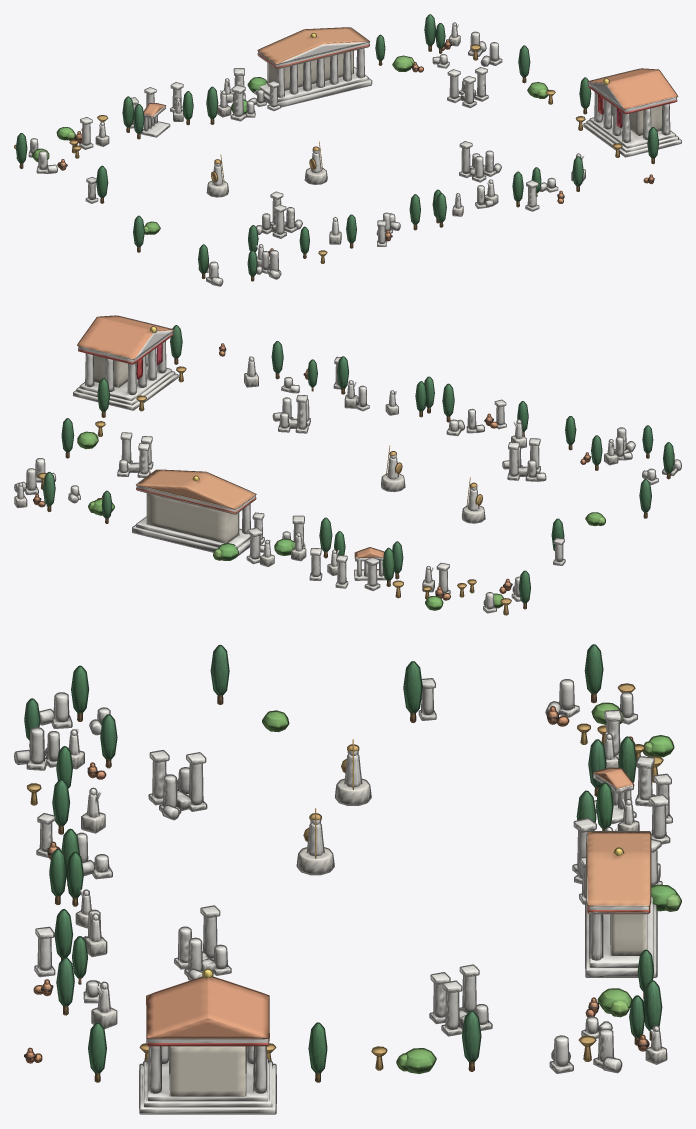
Rendered from acropolis.glb.
3 views of the same model, one above another, from view 1: azimuth 30°, elevation 25°; view 2: azimuth 150°, elevation 25°; view 3: azimuth 270°, elevation 25° (orthographic). The views are drawn at different scales.
Parts seen in each view (by area): view 1: Baked_matte, Baked_matte_Outline, Baked_metal, Baked_metal_Outline; view 2: Baked_matte, Baked_matte_Outline, Baked_metal, Baked_metal_Outline; view 3: Baked_matte, Baked_matte_Outline, Baked_metal, Baked_metal_Outline.
Part boxes in pixels (x1,y1,x2,y2): Baked_matte: (16, 15, 681, 285); Baked_matte_Outline: (15, 14, 681, 286); Baked_metal: (14, 33, 621, 263); Baked_metal_Outline: (14, 33, 622, 263); Baked_matte: (15, 316, 681, 612); Baked_matte_Outline: (14, 315, 681, 613); Baked_metal: (38, 327, 510, 614); Baked_metal_Outline: (38, 326, 576, 615); Baked_matte: (15, 645, 680, 1113); Baked_matte_Outline: (14, 644, 681, 1114); Baked_metal: (28, 684, 662, 1069); Baked_metal_Outline: (26, 683, 663, 1070).
Bounding box in the file's own units: 39.37 × 4.68 × 26.66.
